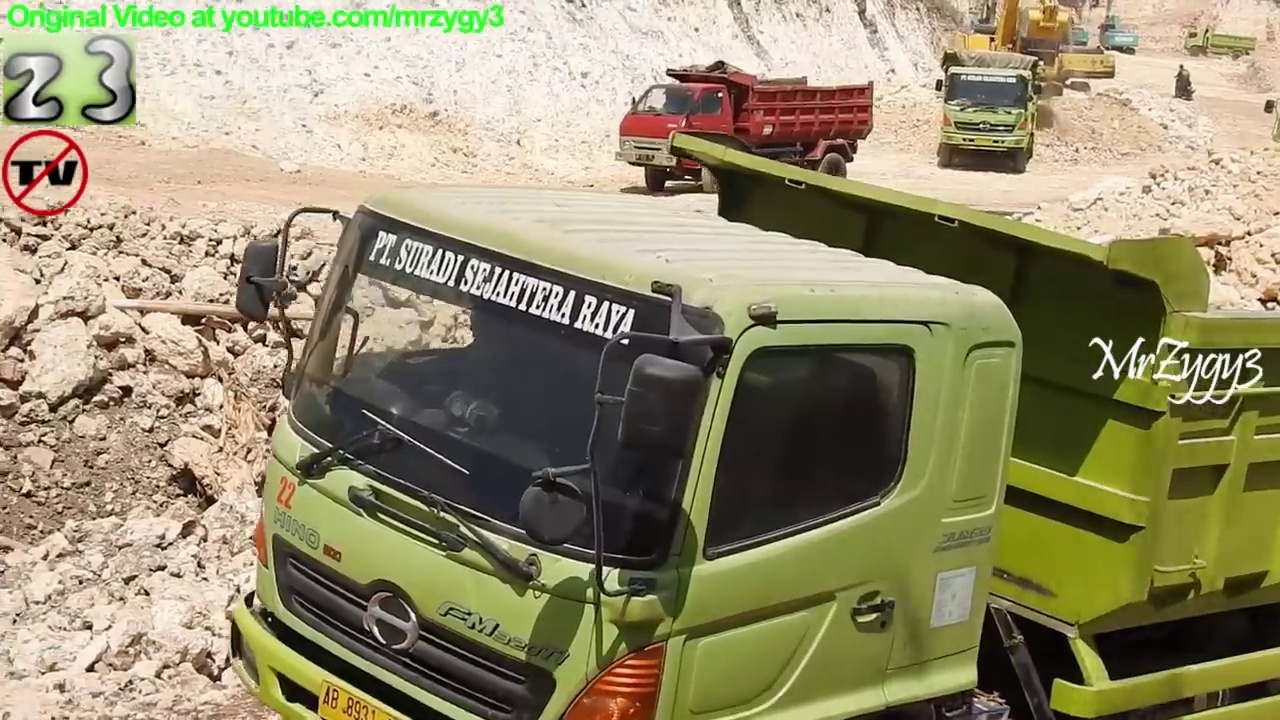excavator: (933, 2, 1078, 114), (1009, 1, 1122, 100), (1027, 1, 1093, 62), (1098, 1, 1143, 57)
truck: (223, 128, 1280, 720), (612, 59, 878, 193), (934, 47, 1050, 178), (1182, 23, 1258, 62)
